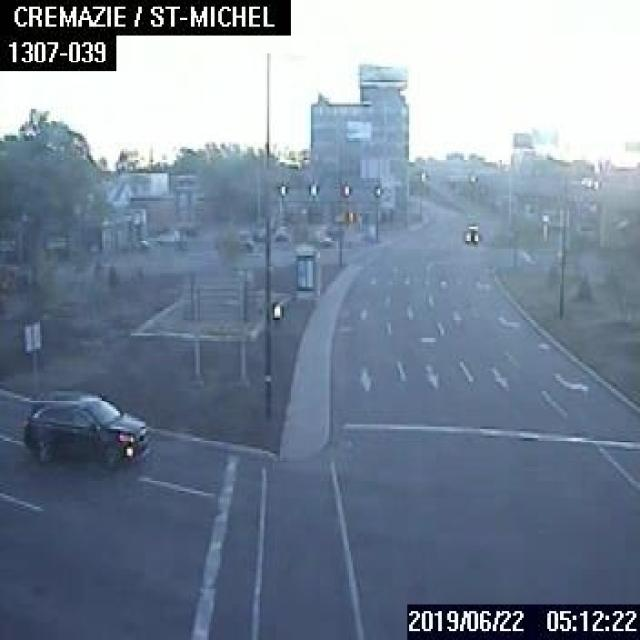vehicle: (22, 387, 147, 462), (156, 228, 180, 243), (462, 225, 478, 243)
